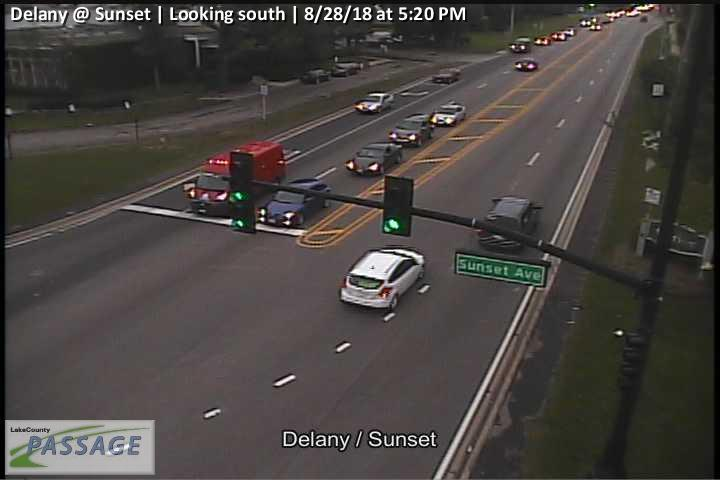SUV: (480, 195, 544, 254), (389, 113, 435, 148), (511, 36, 531, 54)
Sedan: (338, 247, 425, 309), (259, 177, 332, 228), (345, 140, 402, 176), (355, 92, 394, 112), (434, 103, 467, 126), (432, 67, 462, 84), (515, 58, 537, 71)
Truck: (186, 139, 292, 217)
